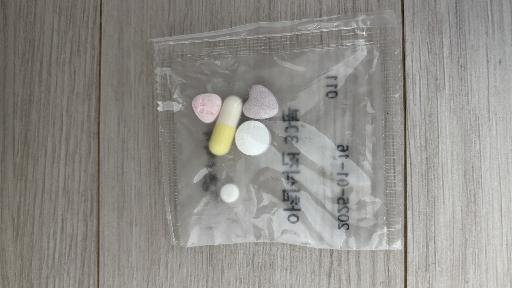Thermozen: (192, 93, 222, 123)
vinyl: (150, 11, 403, 250)
